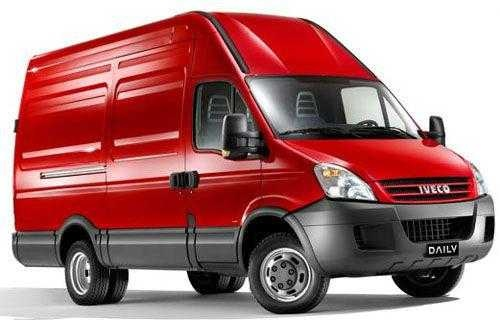van: (12, 11, 494, 313)
